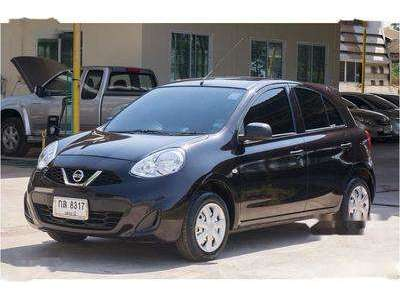sedan: (23, 75, 378, 262)
